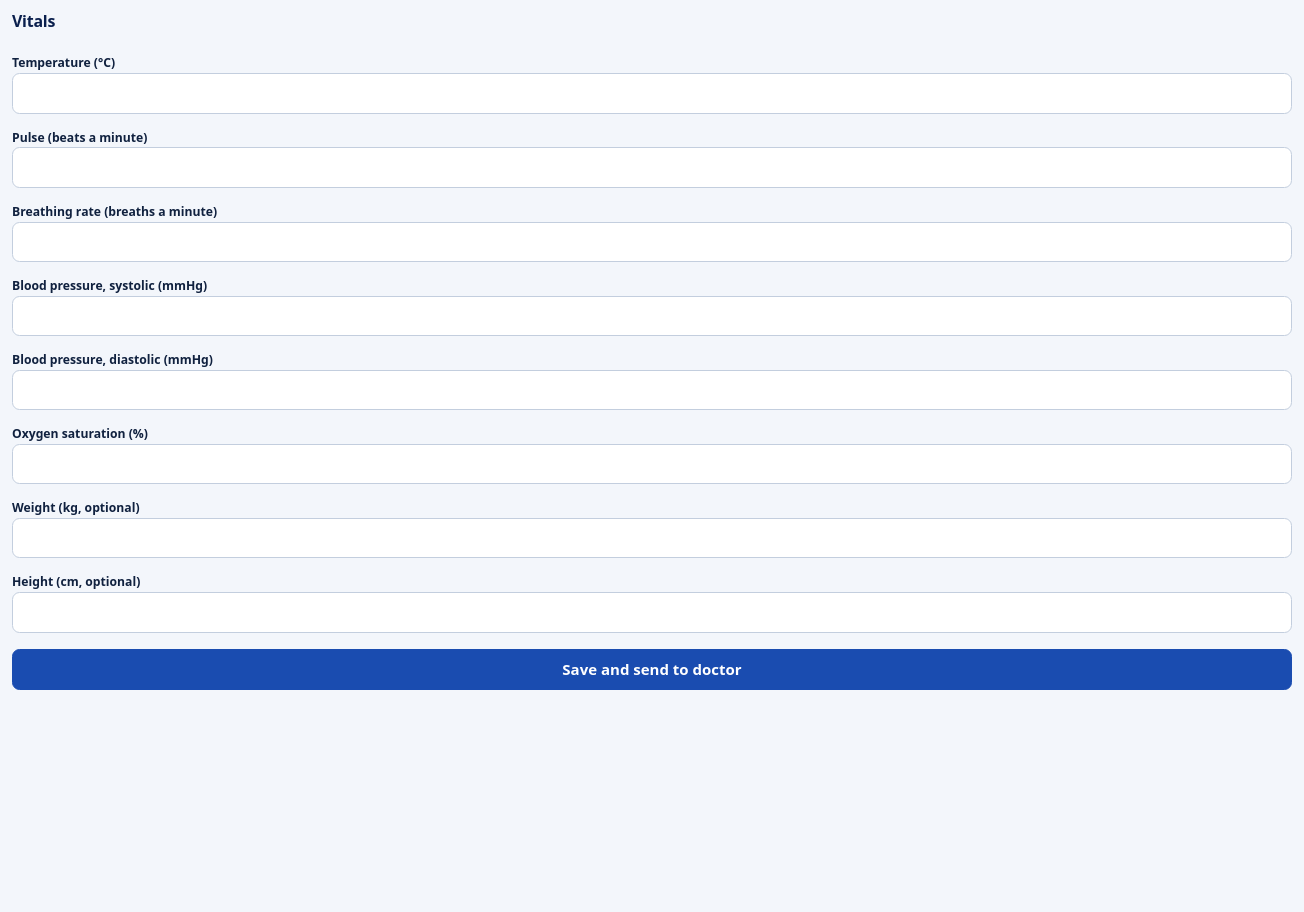
it: VitalsForm › shows the backend's refusal
The image size is (1304, 912).
In the field labelled "Temperature (°C)": [652, 93] box x1=12 y1=73 x2=1292 y2=114, type "37.8"
In the field labelled "Pulse (beats a minute)": [652, 168] box x1=12 y1=148 x2=1292 y2=188, type "92"
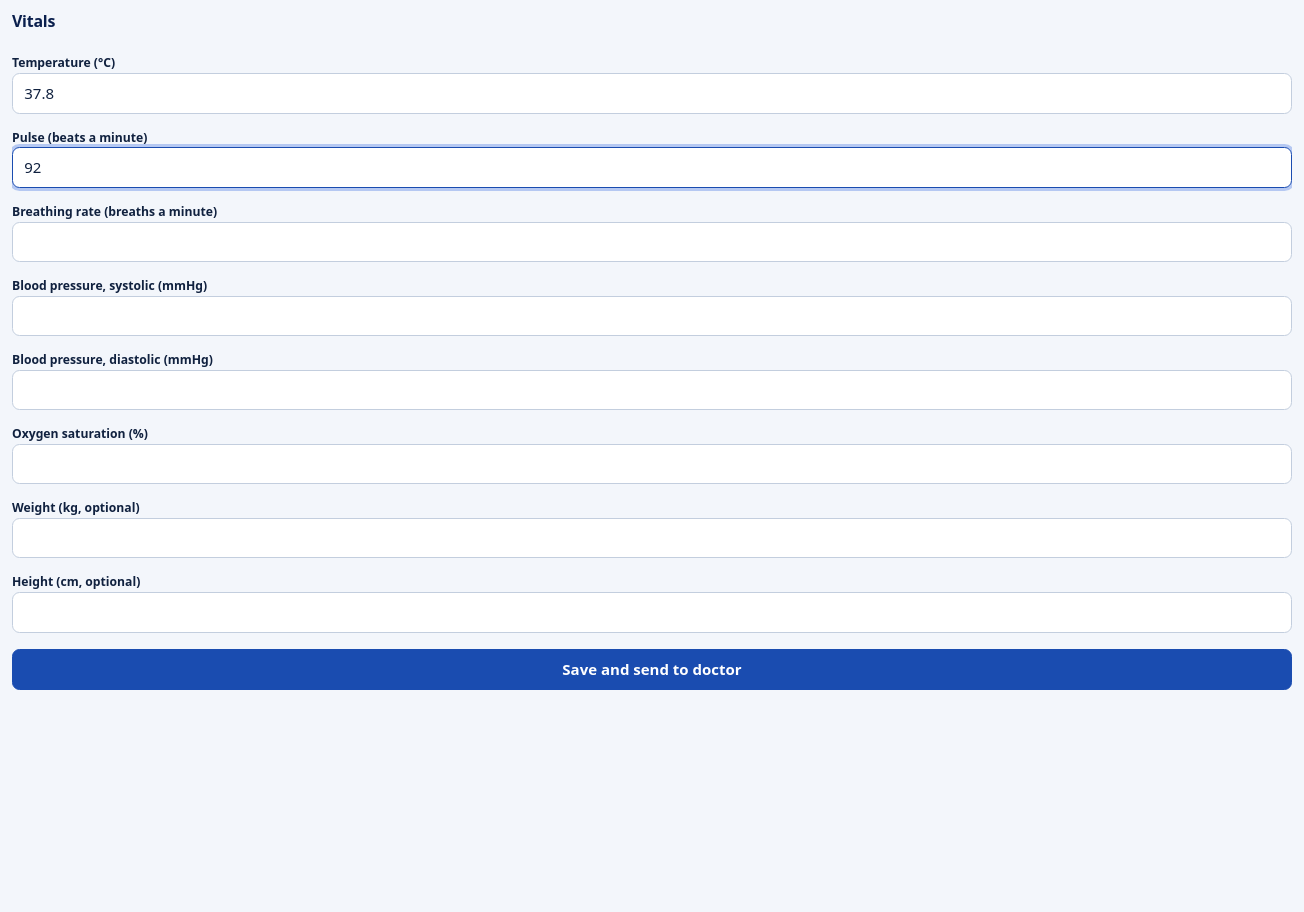
In the field labelled "Breathing rate (breaths a minute)": [652, 242] box x1=12 y1=222 x2=1292 y2=262, type "18"
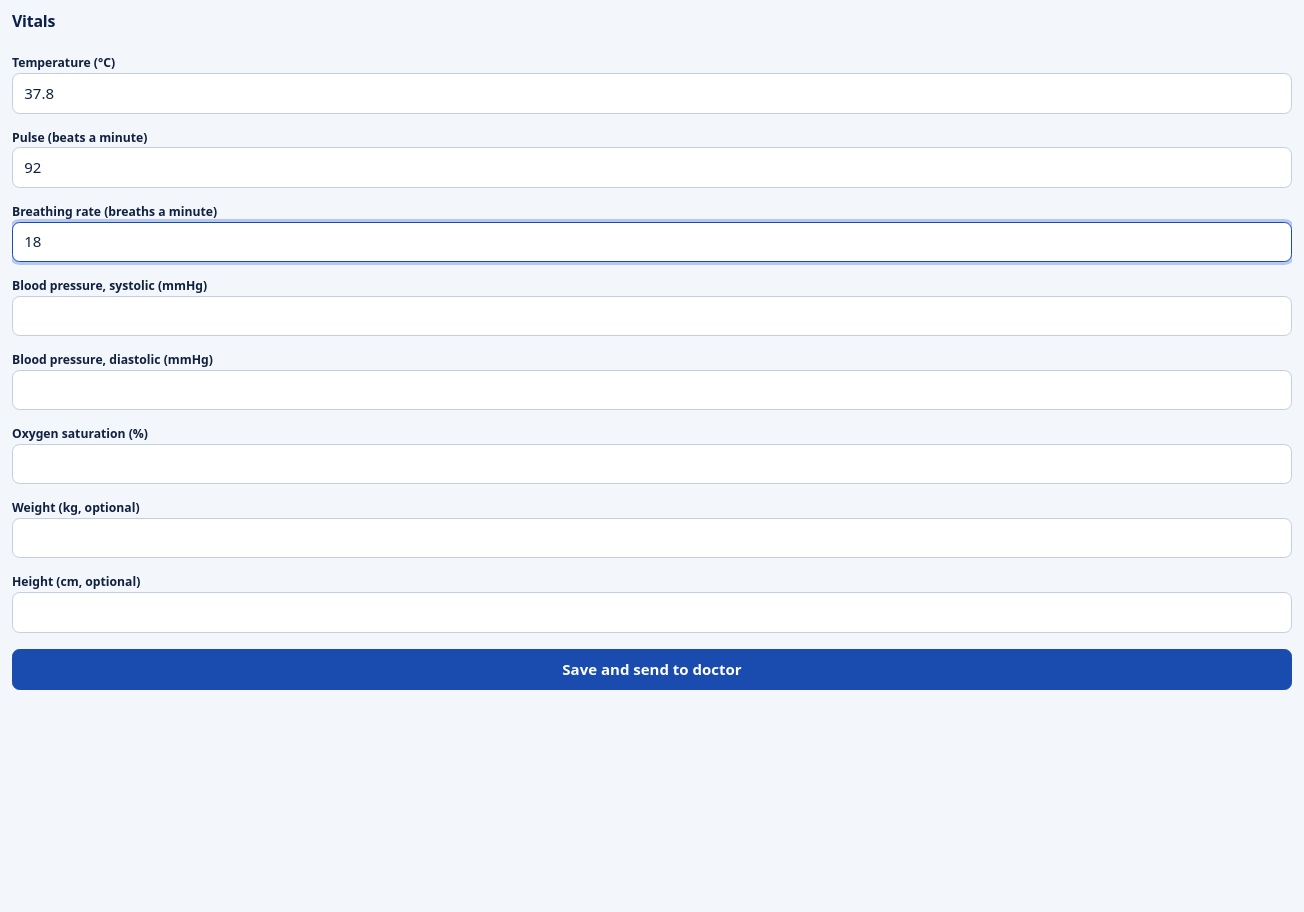
In the field labelled "Blood pressure, systolic (mmHg)": [652, 316] box x1=12 y1=296 x2=1292 y2=336, type "124"
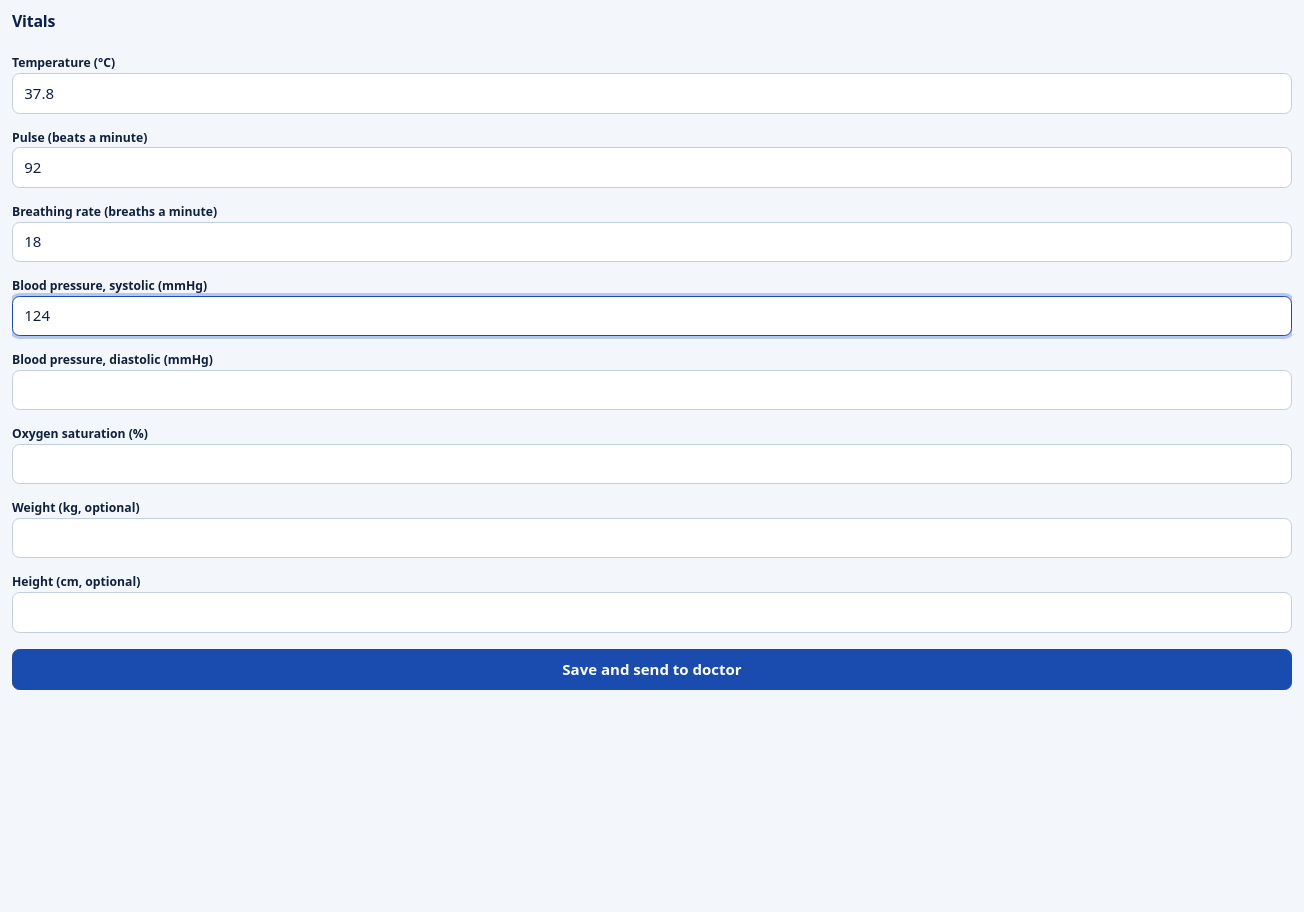
In the field labelled "Blood pressure, diastolic (mmHg)": [652, 390] box x1=12 y1=370 x2=1292 y2=410, type "82"
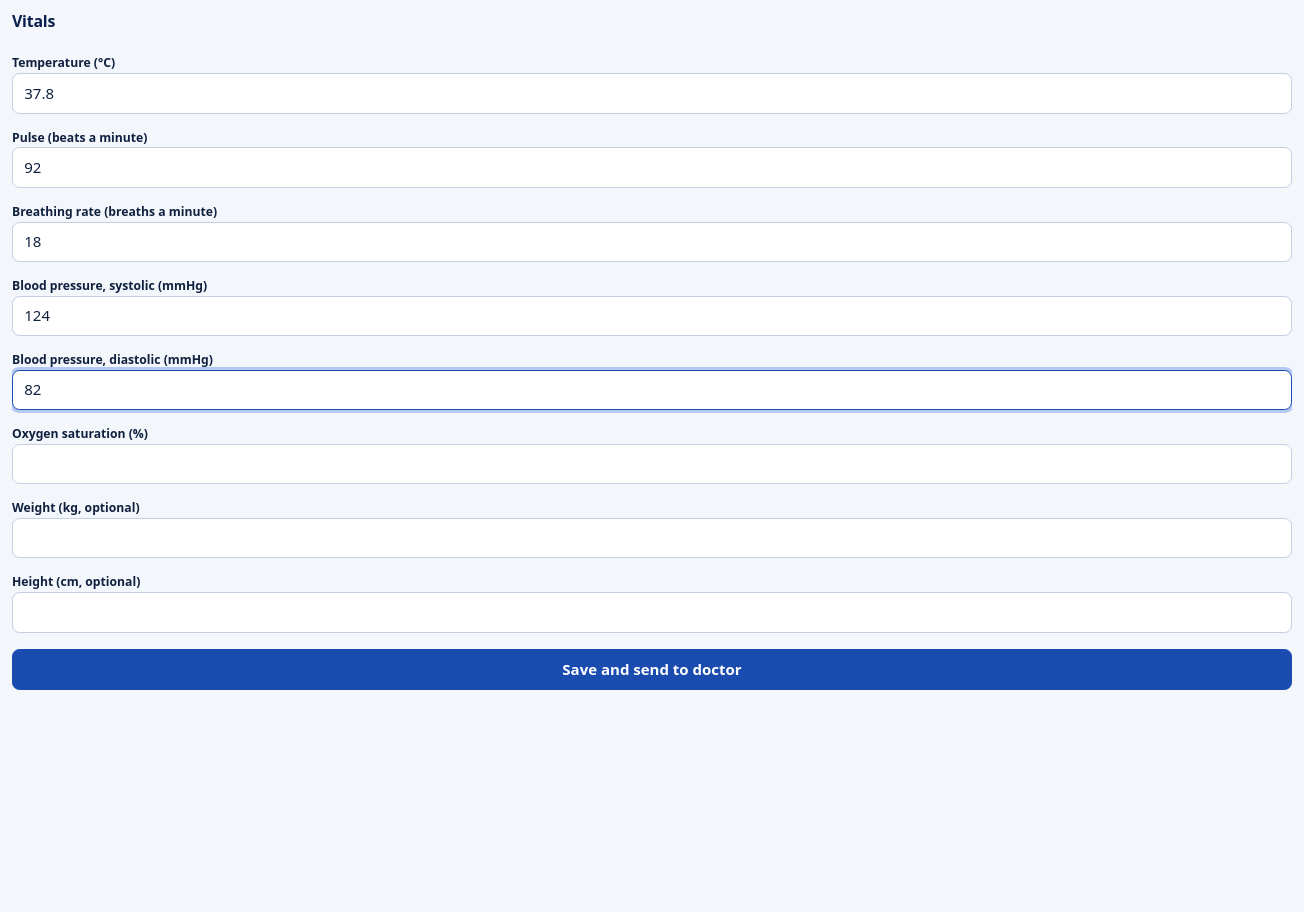
In the field labelled "Oxygen saturation (%)": [652, 464] box x1=12 y1=444 x2=1292 y2=484, type "97"
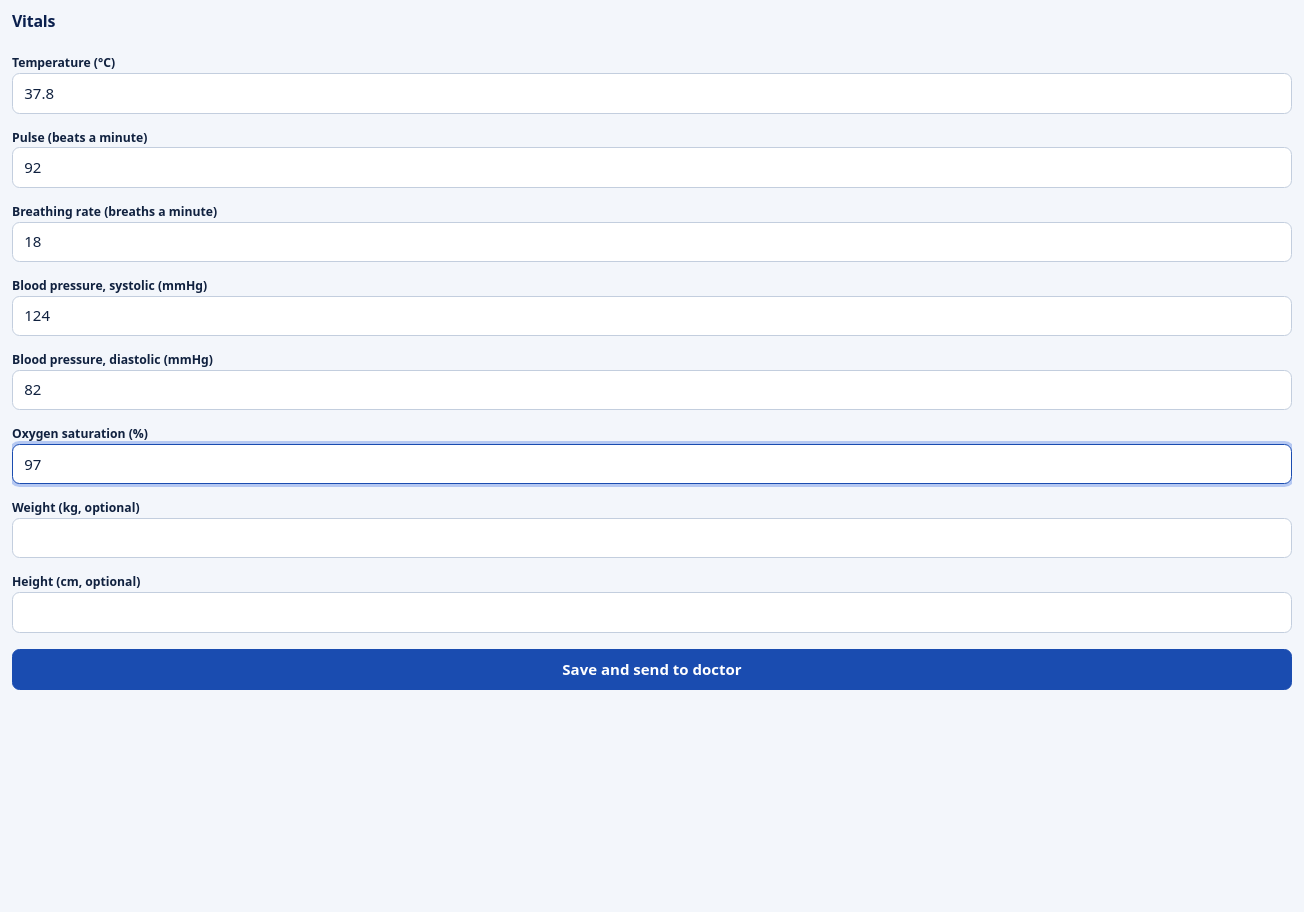
Click the button "Save and send to doctor": [652, 670] box x1=12 y1=649 x2=1292 y2=690
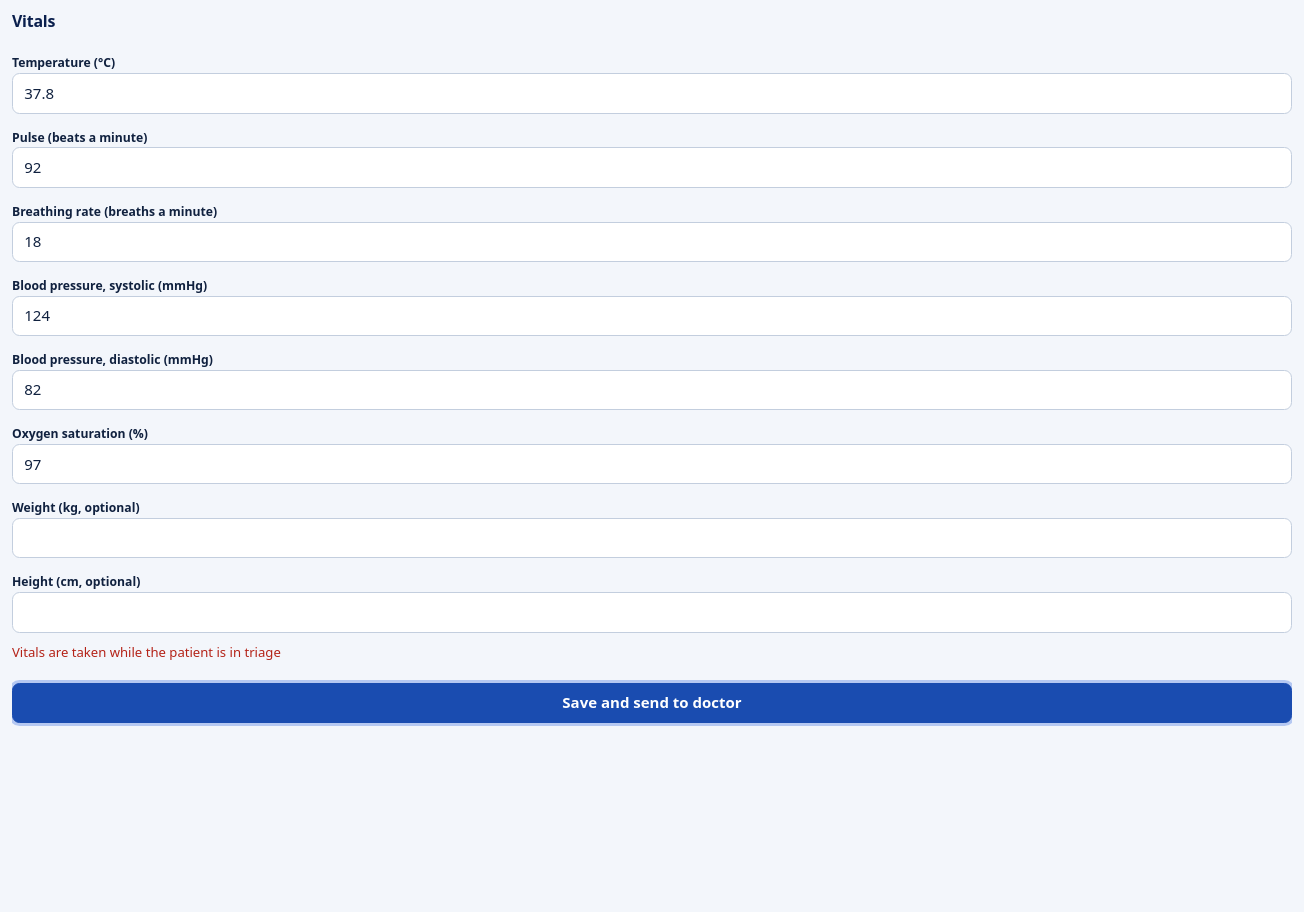
Expected: the message reads "Vitals are taken while the patient is in triage", x1=12 y1=643 x2=281 y2=661
